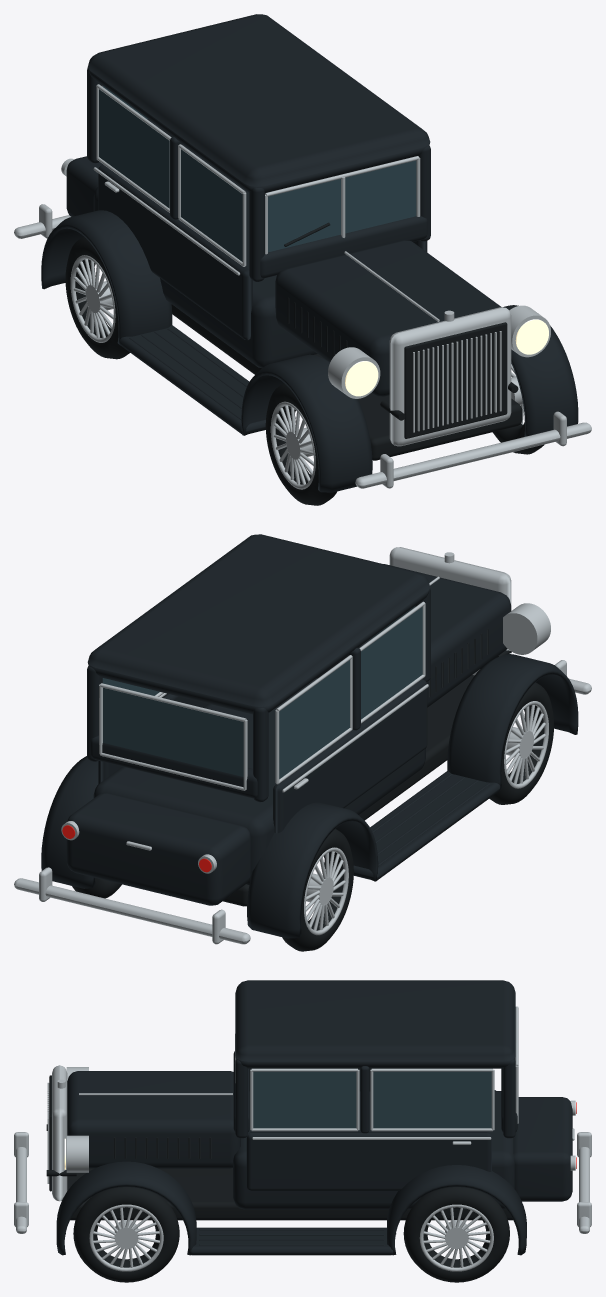
File: gangster-briefing.glb
The picture shows the model from 3 angles, top to bottom: view 1: azimuth 30°, elevation 25°; view 2: azimuth 150°, elevation 25°; view 3: azimuth 270°, elevation 25°; orthographic projection. The views are drawn at different scales.
Visible parts, largest first — view 1: body, door_left, bonnet, fender_left, grille, running_board_left, wheel_fl, wheel_rl, fender_right, lights_front, bumper_front, boot (+2 smaller); view 2: body, door_left, fender_left, boot, bonnet, running_board_left, wheel_rl, wheel_fl, fender_right, bumper_rear, grille, lights_front (+2 smaller); view 3: body, door_right, bonnet, fender_right, wheel_fr, wheel_rr, boot, running_board_right, grille, bumper_front, bumper_rear, lights_front.
Part boxes in pixels (x1,y1,x2,y2): body: (87,14,522,460); door_left: (93,84,252,339); bonnet: (275,240,501,396); fender_left: (41,210,372,492); grille: (389,307,511,446); running_board_left: (119,325,295,434); wheel_fl: (265,383,336,505); wheel_rl: (65,236,129,359); fender_right: (503,305,578,436); lights_front: (328,305,550,398); bumper_front: (355,411,591,488); boot: (66,144,201,216); body: (87,534,474,906); door_left: (273,601,428,833); fender_left: (247,654,578,938); boot: (66,793,250,905); bonnet: (317,564,511,707); running_board_left: (353,771,500,879); wheel_rl: (282,829,353,951); wheel_fl: (489,682,553,804); fender_right: (41,756,98,888); bumper_rear: (14,867,250,944); grille: (389,547,511,675); lights_front: (503,603,550,654); body: (67,980,518,1220); door_right: (246,1066,494,1190); bonnet: (67,1071,240,1168); fender_right: (56,1161,526,1255); wheel_fr: (73,1187,179,1282); wheel_rr: (403,1187,509,1282); boot: (513,1097,574,1201); running_board_right: (190,1227,393,1255); grille: (47,1065,67,1201); bumper_front: (14,1132,28,1233); bumper_rear: (577,1132,591,1233); lights_front: (64,1067,88,1172).
Size of the model in its own units: 1.98 by 2 by 4.62.
